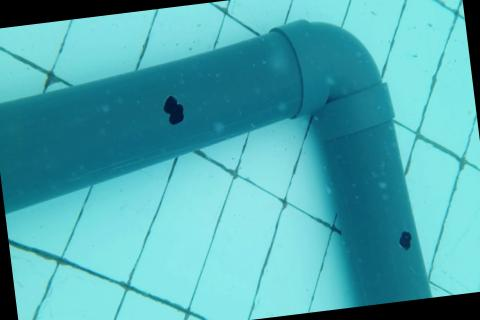kebocoran: (160, 93, 186, 127), (397, 229, 413, 252)
